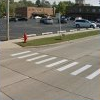crosswalk: (10, 50, 100, 80)
